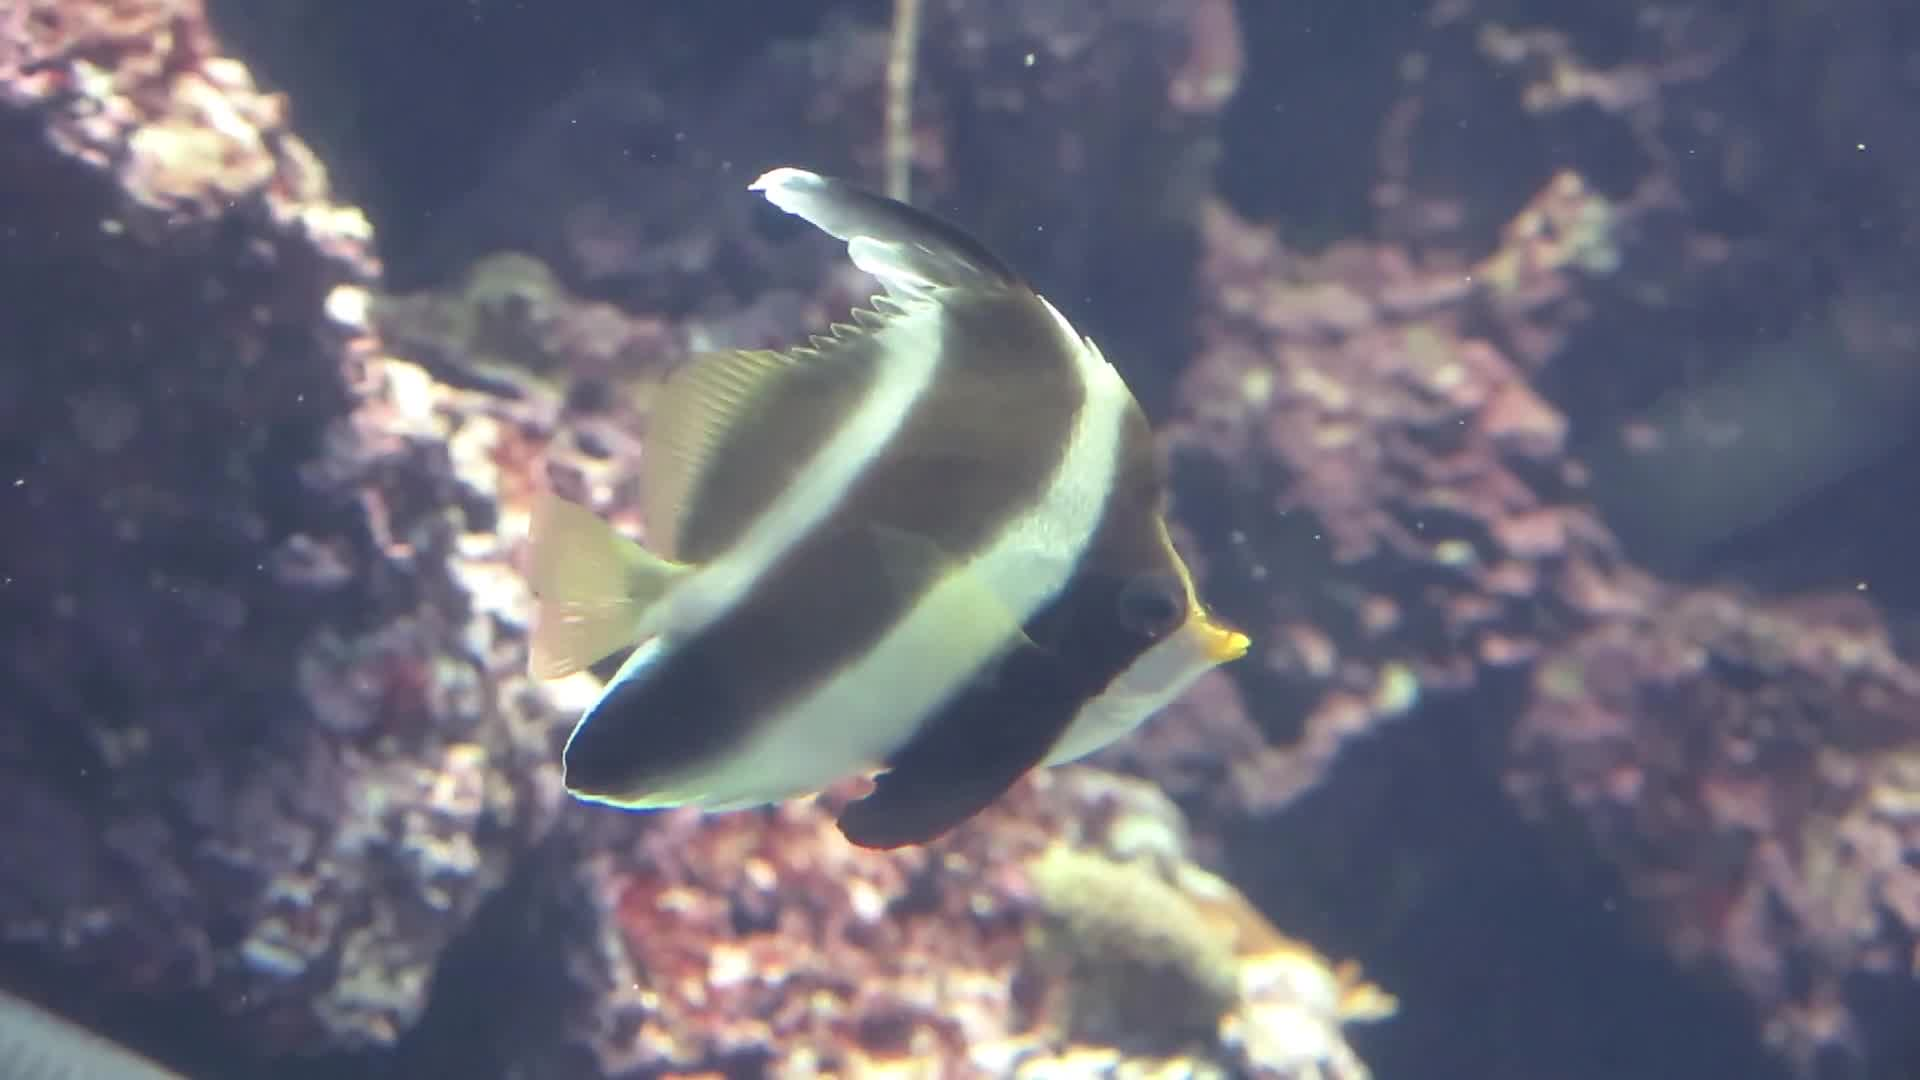Heniochus chrysostomus: (481, 65, 1323, 922)
